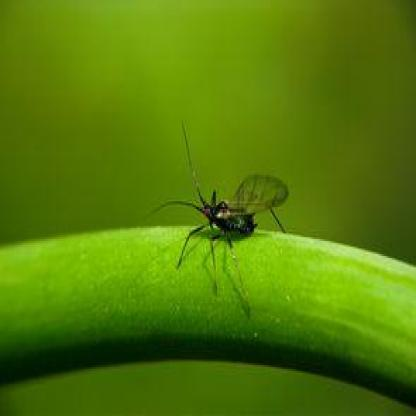aphid: (150, 122, 295, 316)
